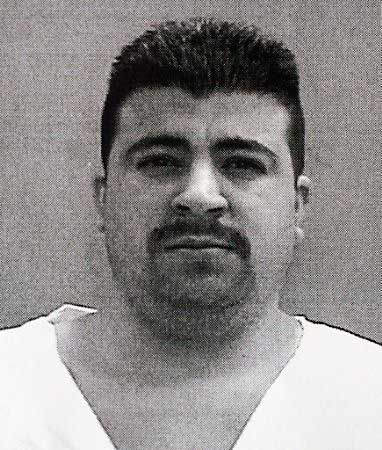Face: (91, 111, 292, 342)
